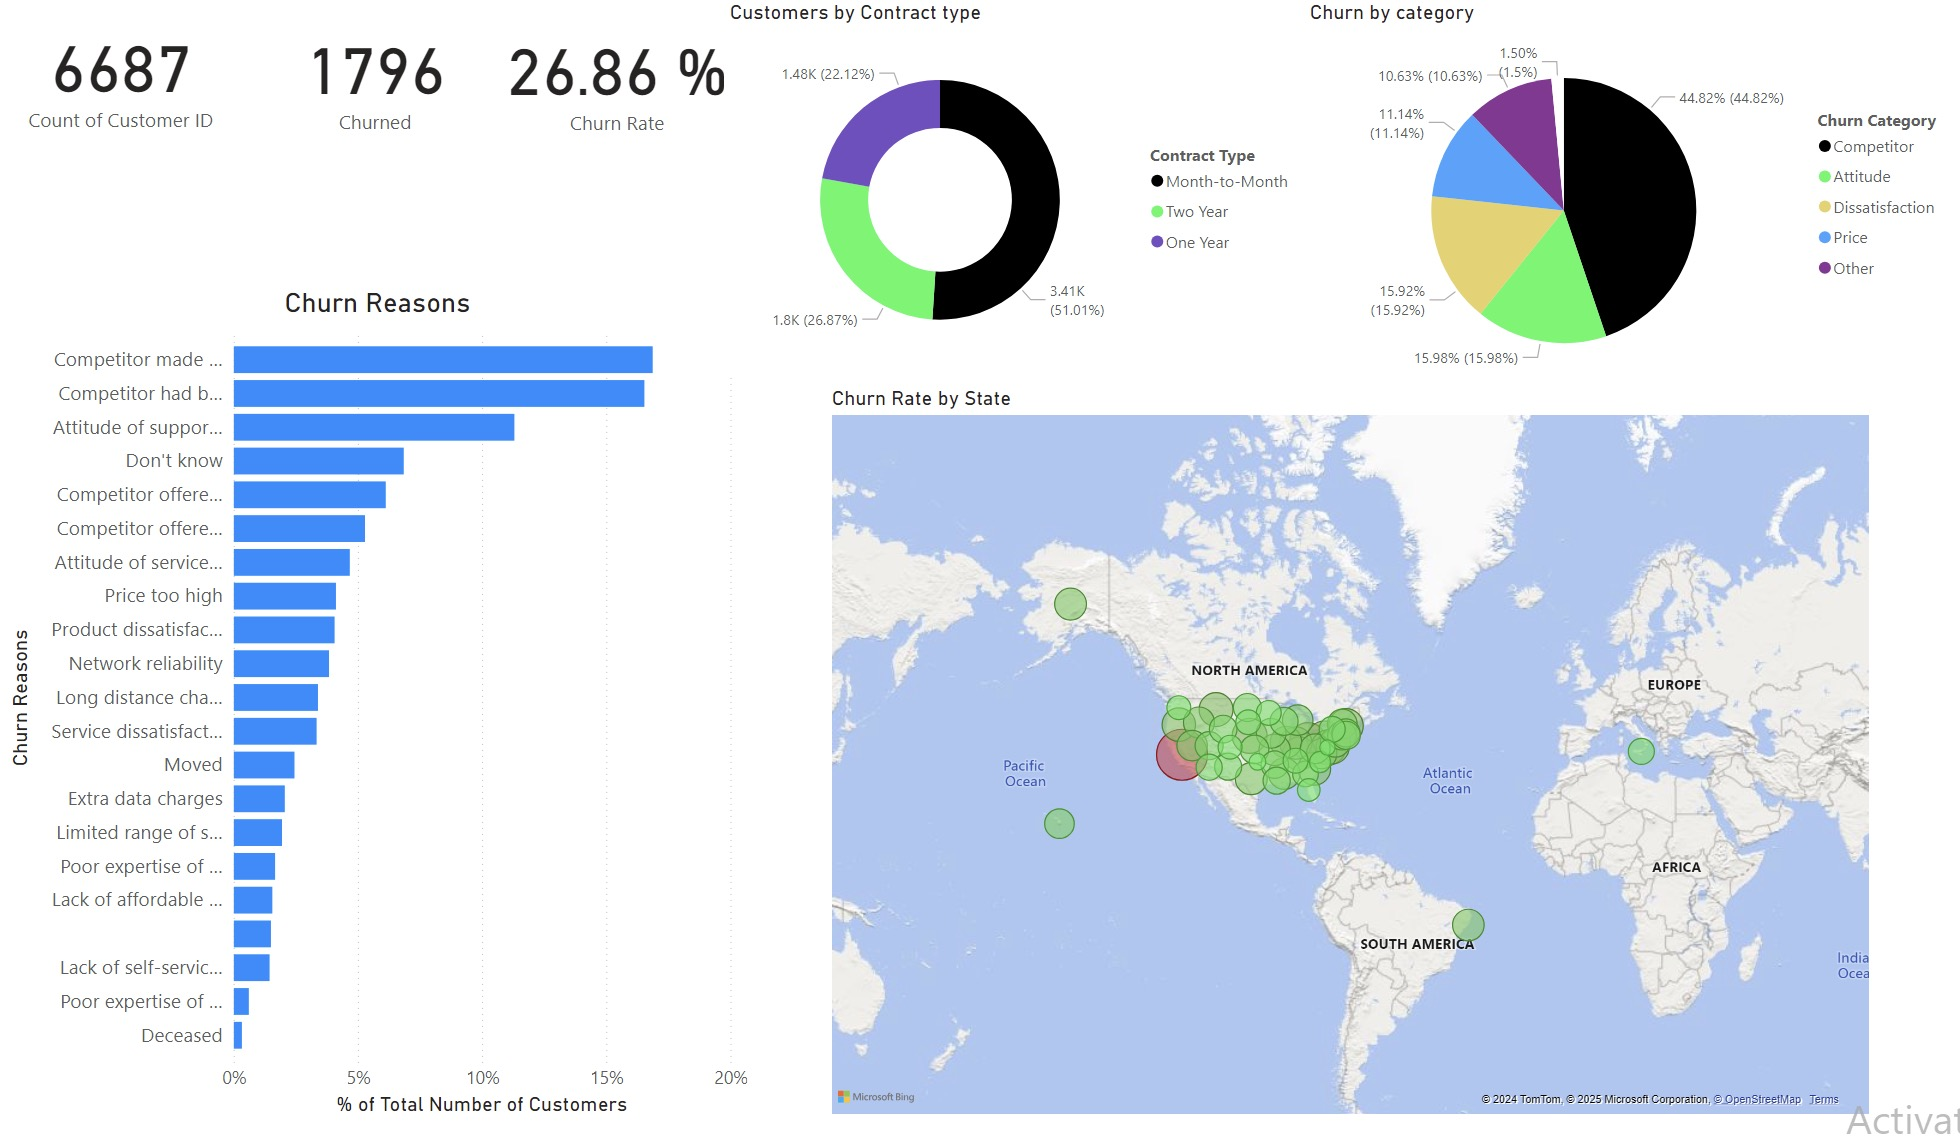

The page's visual inventory and layout, read from the dashboard file:
{"tool":"powerbi","page":{"name":"Groups and Categories","canvas":[1280,720],"ordinal":5},"visuals":[{"type":"lineStackedColumnComboChart","fields":{"Category":["Databel - Data.Number of Customers in Group"],"Y":["Avg(Databel - Data.Monthly Charge)"],"Series":["Databel - Data.Group"],"Y2":["Databel - Data.Churn Rate"]},"box":[20.5,23.5,526.4,337.3],"z":0},{"type":"pieChart","title":"Churn by category","fields":{"Category":["Databel - Data.Churn Category"],"Y":["CountNonNull(Databel - Data.Churn Label)"]},"box":[0,387.1,547,332.9],"z":1000},{"type":"clusteredColumnChart","fields":{"Y":["Databel - Data.Churn Rate"],"Category":["Databel - Data.Contract Category"],"Series":["Databel - Data.Gender"]},"box":[626.2,10.3,601.2,350.5],"z":2000},{"type":"multiRowCard","fields":{"Values":["Databel - Data.Churn Rate","Databel - Data.Contract Category"]},"box":[583.6,415,242,209.7],"z":3000},{"type":"donutChart","title":"Customers by Contract type","fields":{"Y":["Count(Databel - Data.Customer ID)"],"Category":["Databel - Data.Contract Type"]},"box":[771.3,387.1,482.4,313.8],"z":4000}]}

Visuals, with their boxes in screenshot pixels (x1, y1, x2, y2), scaled from the page's 1280x720 canvas onto the 1960x1136 screenshot:
lineStackedColumnComboChart - Databel - Data.Number of Customers in Group x Avg(Databel - Data.Monthly Charge): 31:37:837:569
"Churn by category" pieChart: 0:611:838:1135
clusteredColumnChart - Databel - Data.Churn Rate x Databel - Data.Contract Category: 959:16:1879:569
multiRowCard - Databel - Data.Churn Rate x Databel - Data.Contract Category: 894:655:1264:986
"Customers by Contract type" donutChart: 1181:611:1920:1106
